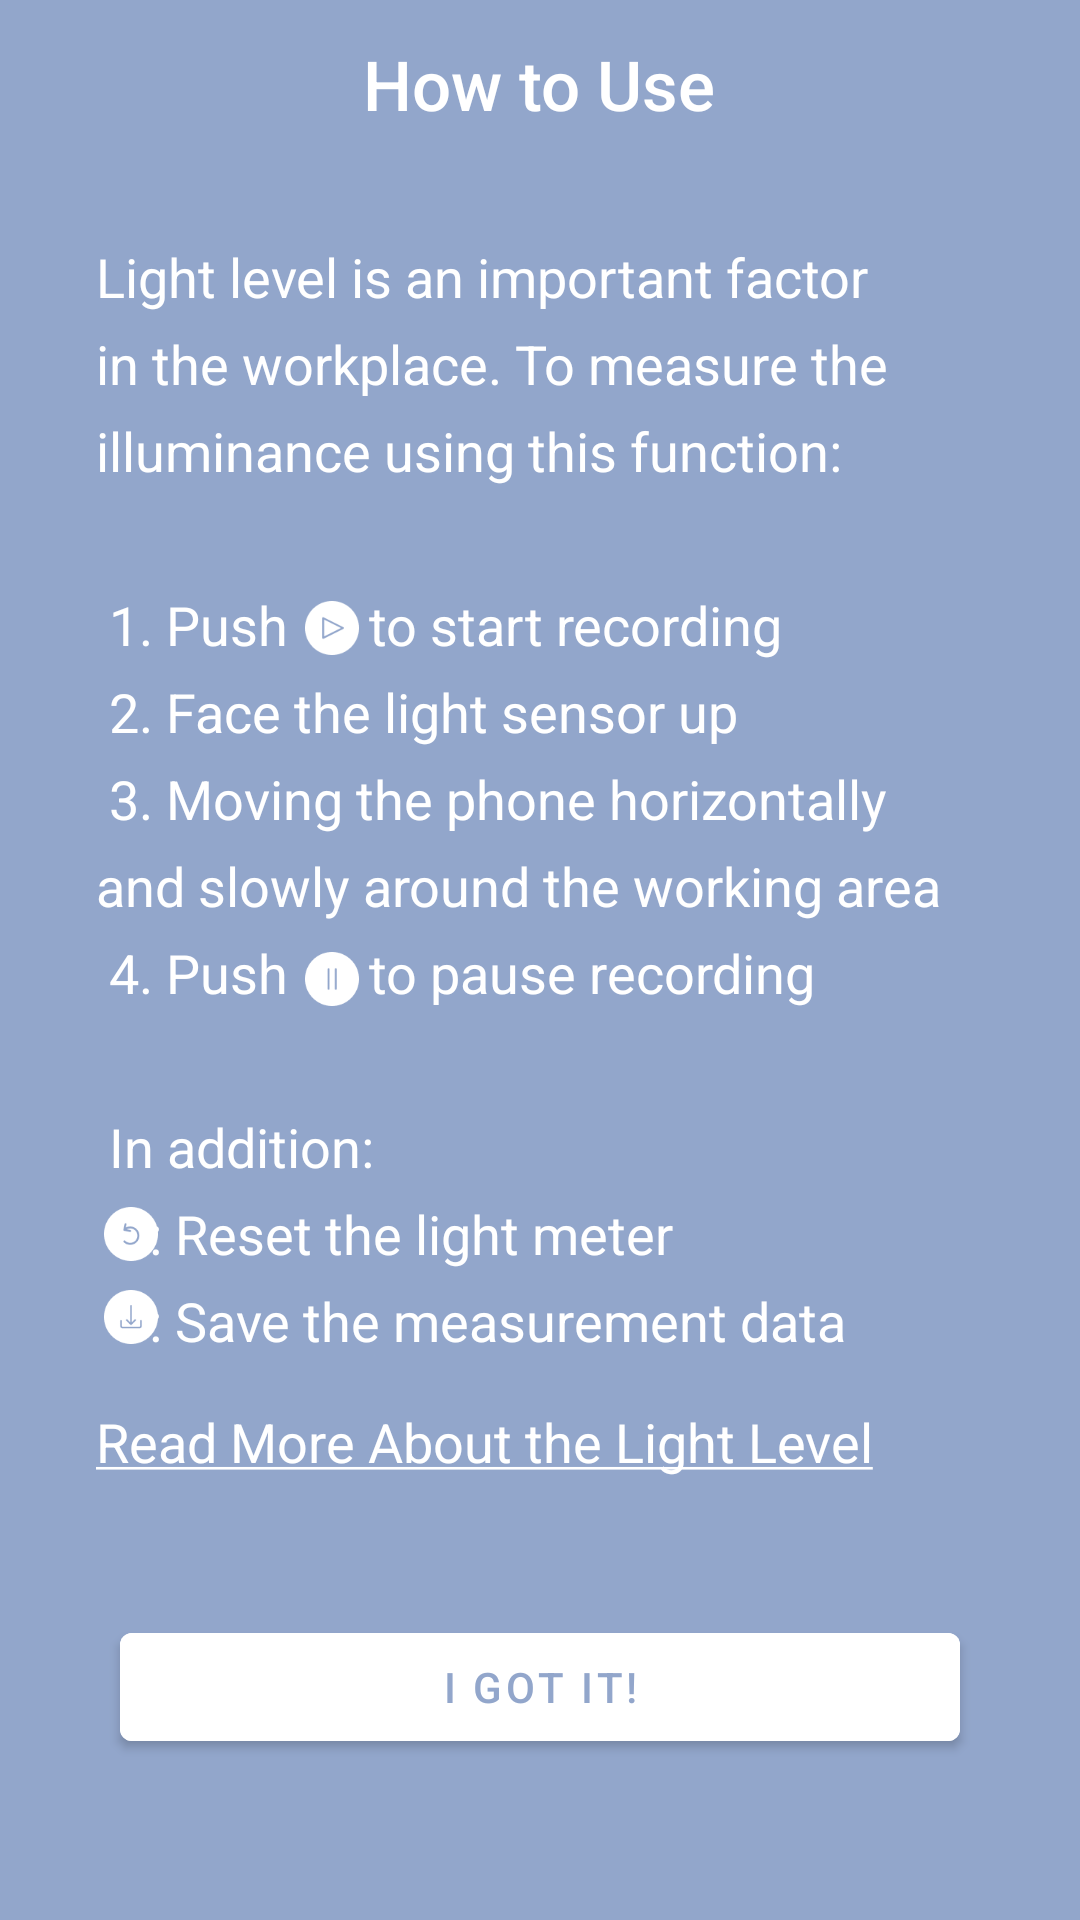

Icons on this 1080px×1920px Android screen, each with the point to tap as [x,y]:
level pause: [332,979]
level play: [332,628]
level reset: [131,1234]
level save: [131,1317]
